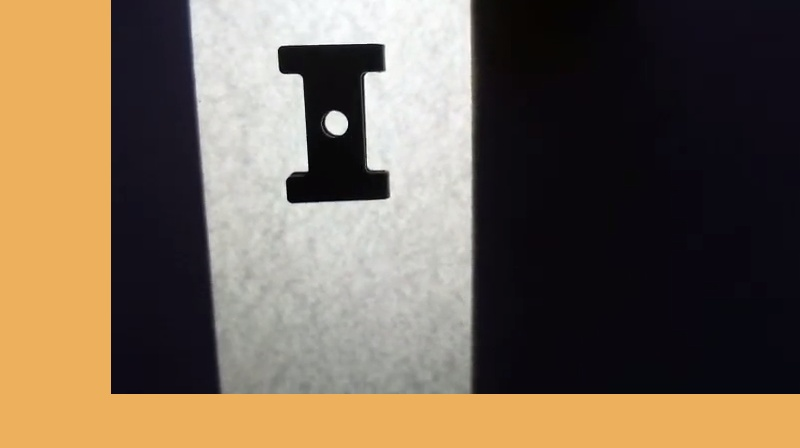O002: (268, 39, 393, 206)
